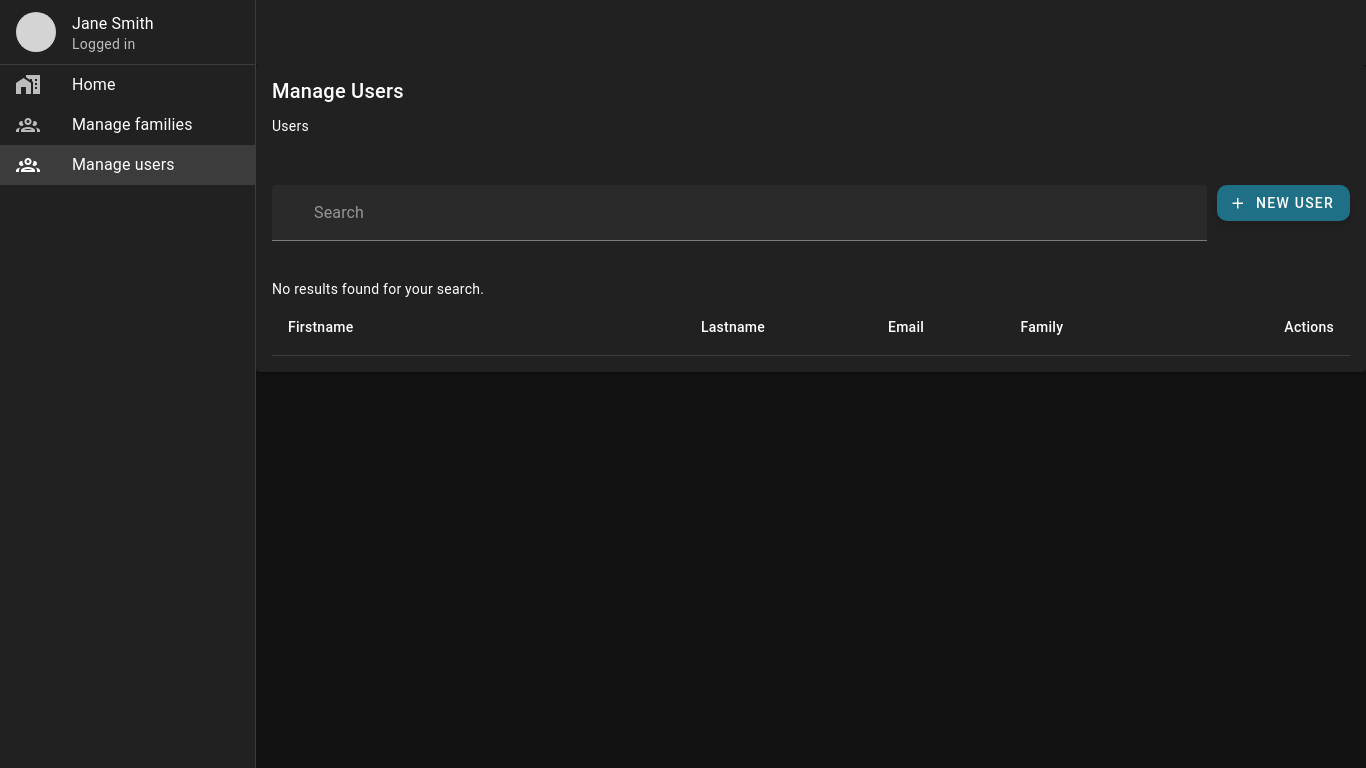
Scenario: Manage Users Page › should allow searching for users
Type "John" into the field with id "searchbar" at (758, 213), box [308,185,1207,241]
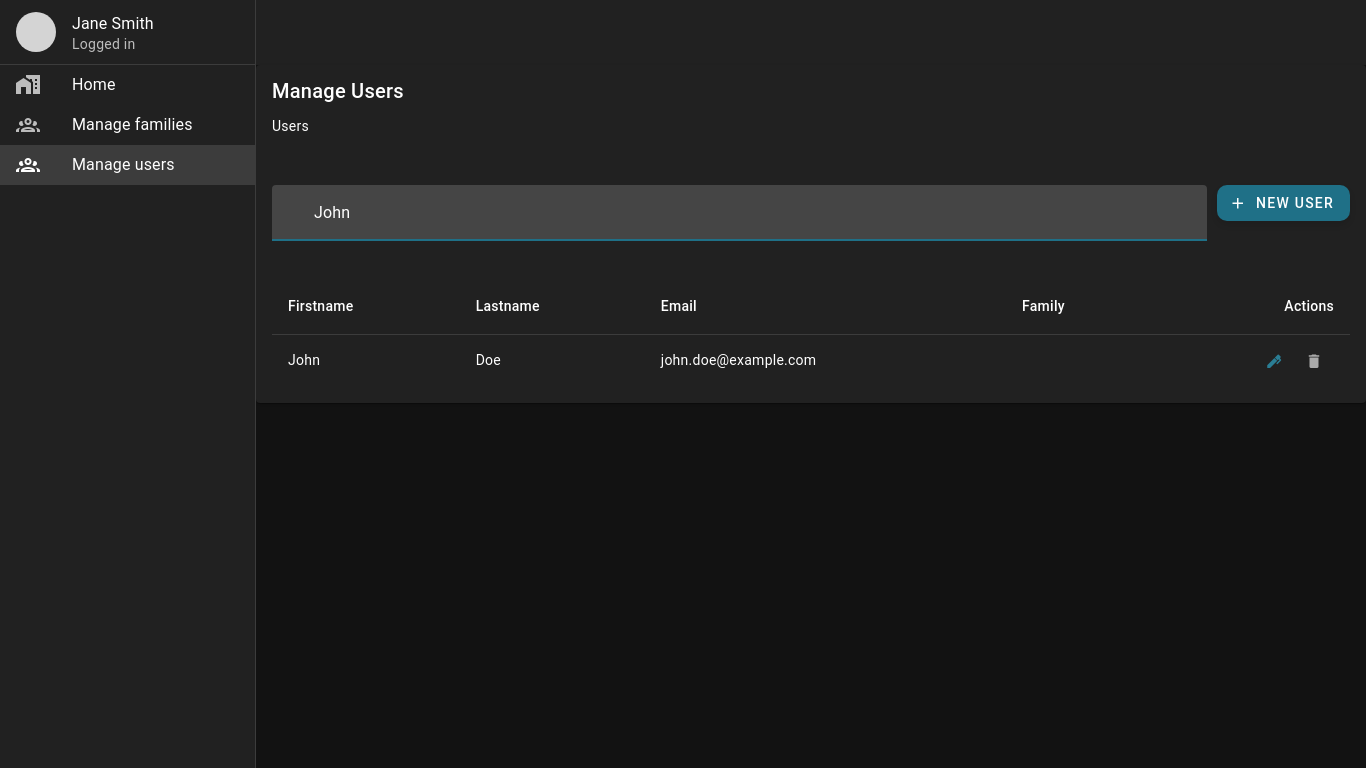
Check: the cell "John" is shown, box [272,335,460,387]
